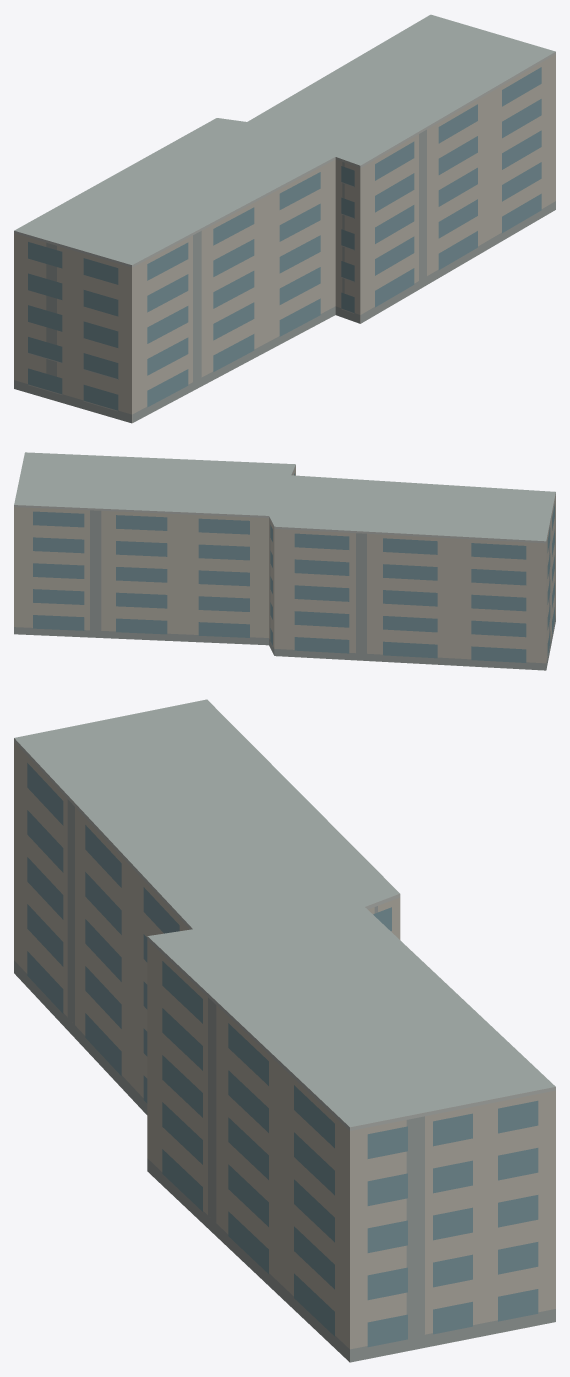
The model's file is residential-22a2b30b-c237-4bd8-a640-a201d3be5b47.glb.
3 views of the same model, one above another, from view 1: azimuth 30°, elevation 25°; view 2: azimuth 150°, elevation 25°; view 3: azimuth 270°, elevation 25° (orthographic). The views are drawn at different scales.
Visible parts, largest first — view 1: residential-22a2b30b-c237-4bd8-a640-a201d3be5b47.tmp; view 2: residential-22a2b30b-c237-4bd8-a640-a201d3be5b47.tmp; view 3: residential-22a2b30b-c237-4bd8-a640-a201d3be5b47.tmp.
Part boxes in pixels (bbox=[...]): residential-22a2b30b-c237-4bd8-a640-a201d3be5b47.tmp: bbox=[14, 14, 555, 423]; residential-22a2b30b-c237-4bd8-a640-a201d3be5b47.tmp: bbox=[14, 452, 555, 670]; residential-22a2b30b-c237-4bd8-a640-a201d3be5b47.tmp: bbox=[14, 699, 555, 1362].
Bounding box in the file's own units: 59.51 × 15.25 × 31.85.
